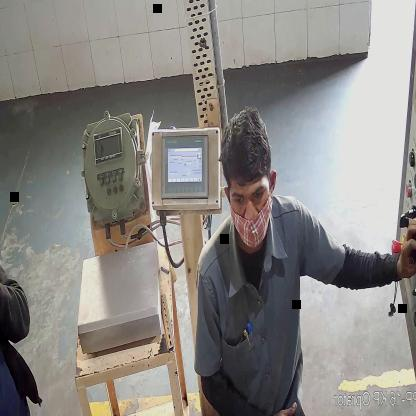no_goggles: (229, 182, 268, 209)
